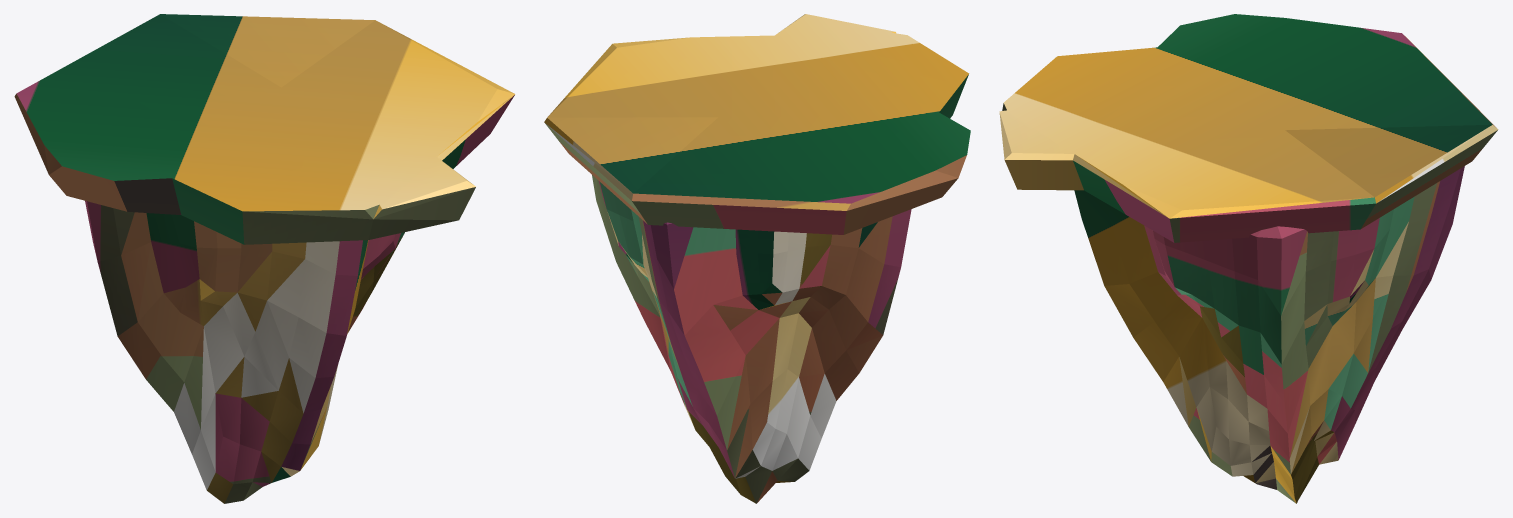
Rendered from platform3.fbx.
3 views of the same model, side by side, from view 1: azimuth 30°, elevation 25°; view 2: azimuth 150°, elevation 25°; view 3: azimuth 270°, elevation 25° (orthographic). The views are drawn at different scales.
Visible parts, largest first — view 1: floe_011, Hill_desert_004_001; view 2: floe_011, Hill_desert_004_001; view 3: floe_011, Hill_desert_004_001.
Boxes of the visible parts, x1,y1,x2,y2 form: floe_011: (14,14,515,244); Hill_desert_004_001: (85,201,404,503); floe_011: (544,14,970,234); Hill_desert_004_001: (592,175,911,503); floe_011: (999,14,1498,242); Hill_desert_004_001: (1074,166,1464,503).
Size of the model in its own units: 13.12 by 12.01 by 13.83.
